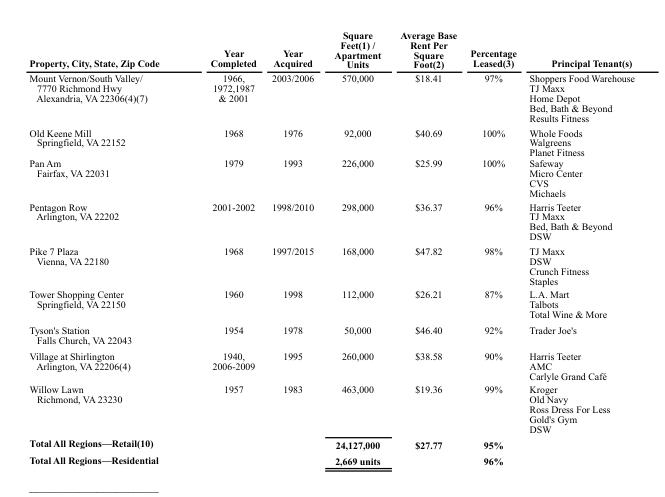table: (28, 29, 634, 465)
table column: (28, 29, 184, 465), (522, 29, 634, 465), (184, 29, 263, 465), (389, 29, 462, 465), (323, 29, 389, 465), (263, 29, 323, 465), (462, 29, 522, 465)
table column header: (28, 29, 634, 70)
table row: (28, 70, 634, 124), (28, 382, 634, 435), (28, 199, 634, 243), (28, 243, 634, 287), (28, 157, 634, 199), (28, 29, 634, 70), (28, 347, 634, 382), (28, 287, 634, 321), (28, 124, 634, 157), (28, 321, 634, 347), (28, 435, 634, 451), (28, 451, 634, 465)
